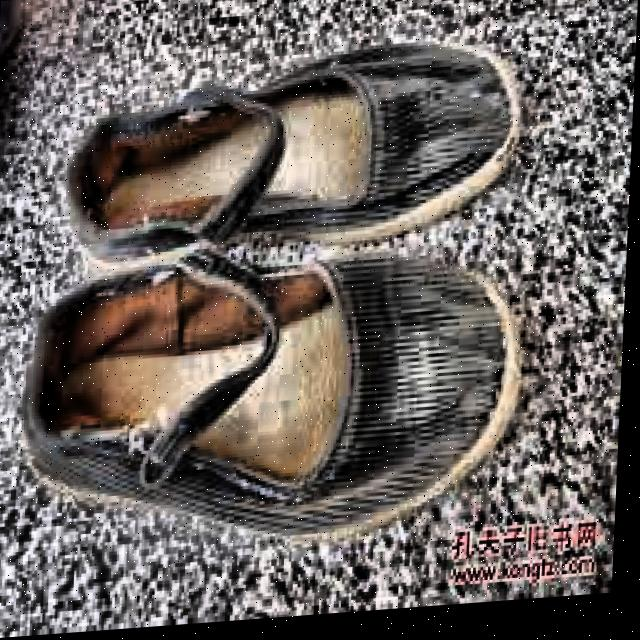shoes: (0, 21, 566, 570)
